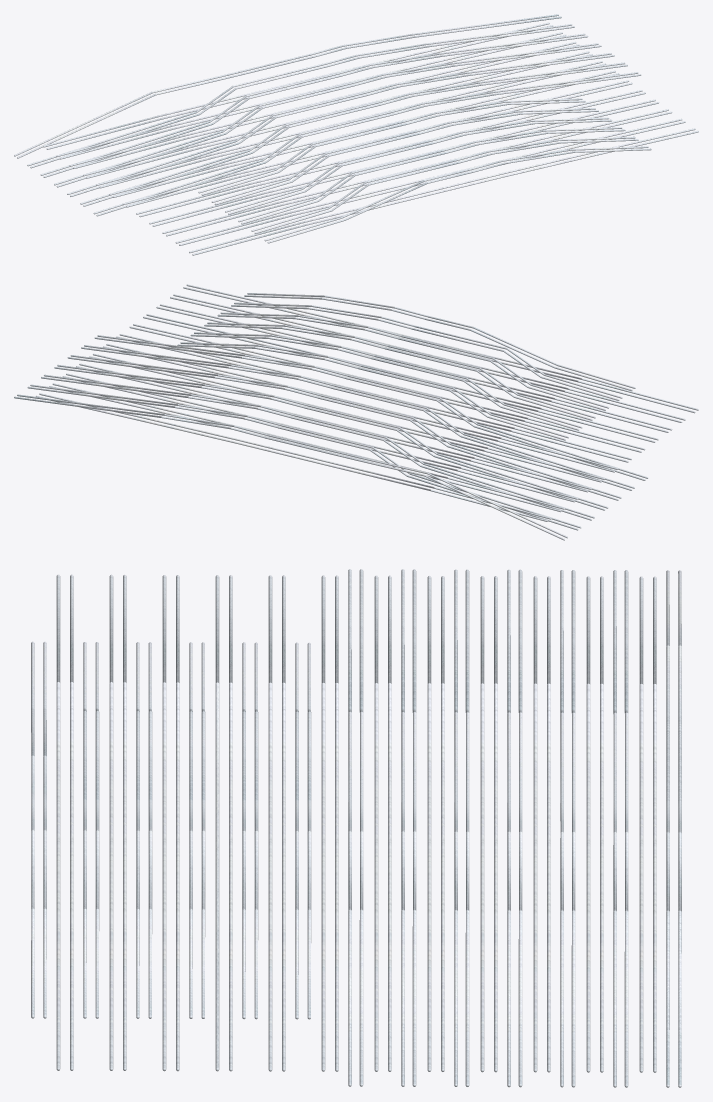
Rendered from qinxian.fbx.
3 views of the same model, one above another, from view 1: azimuth 30°, elevation 25°; view 2: azimuth 150°, elevation 25°; view 3: azimuth 270°, elevation 25° (orthographic). The views are drawn at different scales.
Visible parts, largest first — view 1: 物件_465, 物件_466, 物件_460, 物件_453, 物件_462, 物件_458, 物件_464, 物件_455, 物件_454, 物件_456, 物件_459, 物件_461 (+38 smaller); view 2: 物件_466, 物件_465, 物件_454, 物件_457, 物件_456, 物件_459, 物件_461, 物件_462, 物件_460, 物件_453, 物件_455, 物件_458 (+38 smaller); view 3: 物件_475, 物件_477, 物件_487, 物件_489, 物件_469, 物件_471, 物件_479, 物件_483, 物件_468, 物件_473, 物件_481, 物件_485 (+38 smaller).
Boxes of the visible parts, bbox=[...] form: 物件_465: bbox=[17, 16, 561, 158]; 物件_466: bbox=[14, 14, 558, 156]; 物件_460: bbox=[54, 43, 598, 185]; 物件_453: bbox=[93, 72, 638, 214]; 物件_462: bbox=[40, 33, 585, 175]; 物件_458: bbox=[67, 53, 611, 194]; 物件_464: bbox=[27, 24, 572, 166]; 物件_455: bbox=[80, 62, 625, 204]; 物件_454: bbox=[96, 74, 641, 216]; 物件_456: bbox=[83, 64, 627, 206]; 物件_459: bbox=[56, 45, 601, 187]; 物件_461: bbox=[43, 35, 588, 177]; 物件_466: bbox=[14, 396, 564, 540]; 物件_465: bbox=[17, 394, 567, 538]; 物件_454: bbox=[97, 335, 648, 478]; 物件_457: bbox=[70, 355, 621, 498]; 物件_456: bbox=[84, 345, 634, 488]; 物件_459: bbox=[57, 364, 608, 508]; 物件_461: bbox=[44, 374, 594, 518]; 物件_462: bbox=[41, 377, 591, 520]; 物件_460: bbox=[54, 367, 605, 510]; 物件_453: bbox=[94, 337, 645, 480]; 物件_455: bbox=[81, 347, 631, 490]; 物件_458: bbox=[67, 357, 618, 500]; 物件_475: bbox=[268, 575, 272, 1071]; 物件_477: bbox=[321, 575, 325, 1071]; 物件_487: bbox=[586, 576, 590, 1072]; 物件_489: bbox=[639, 576, 643, 1072]; 物件_469: bbox=[109, 574, 113, 1070]; 物件_471: bbox=[162, 575, 166, 1071]; 物件_479: bbox=[374, 575, 378, 1071]; 物件_483: bbox=[480, 576, 484, 1072]; 物件_468: bbox=[56, 574, 60, 1070]; 物件_473: bbox=[215, 575, 219, 1071]; 物件_481: bbox=[427, 576, 431, 1071]; 物件_485: bbox=[533, 576, 537, 1072].
Bounding box in the file's own units: 71.2 × 4.03 × 36.84.
Materials: 1 (1 with a texture image).
